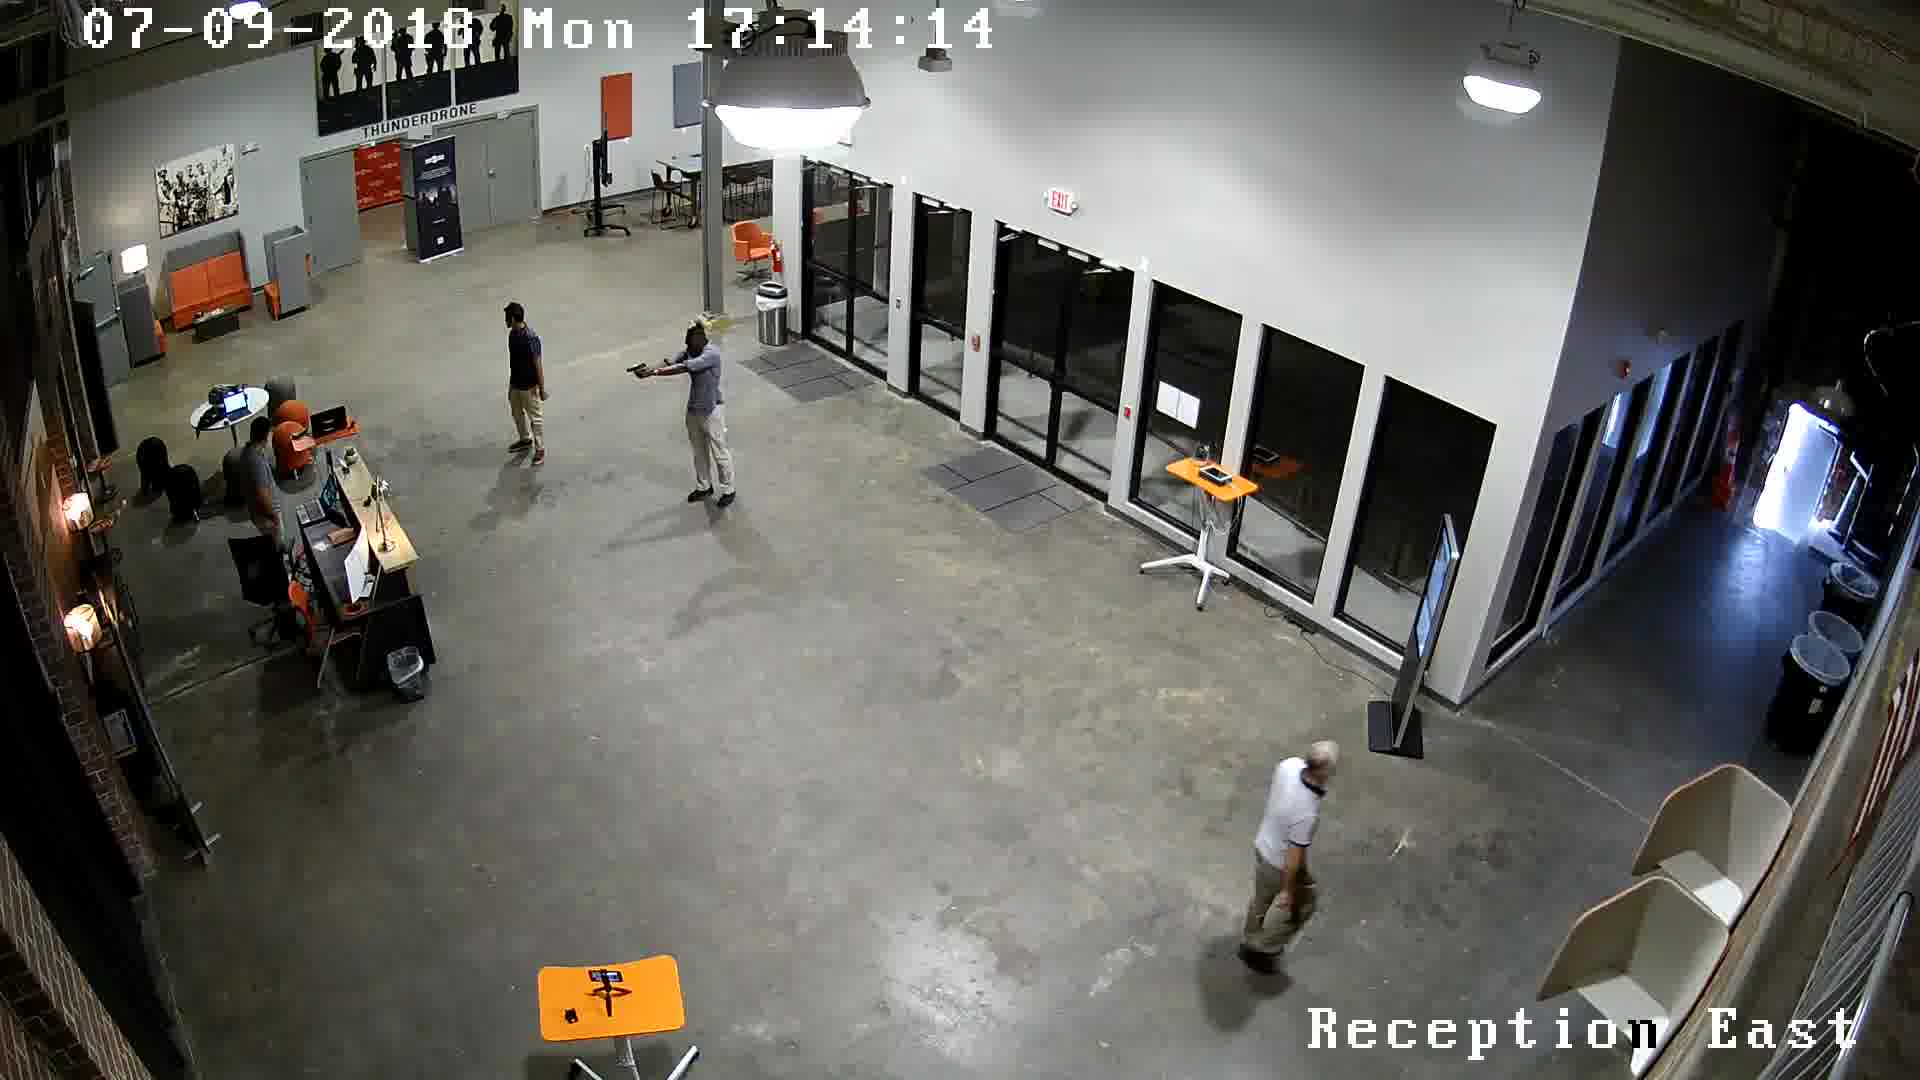pistol: (607, 367, 659, 393)
